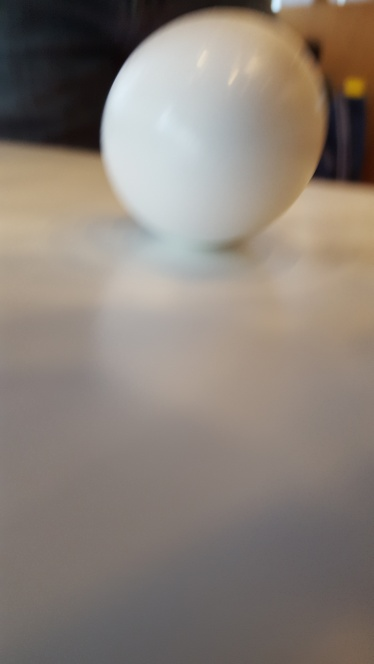egg: (100, 10, 329, 249)
